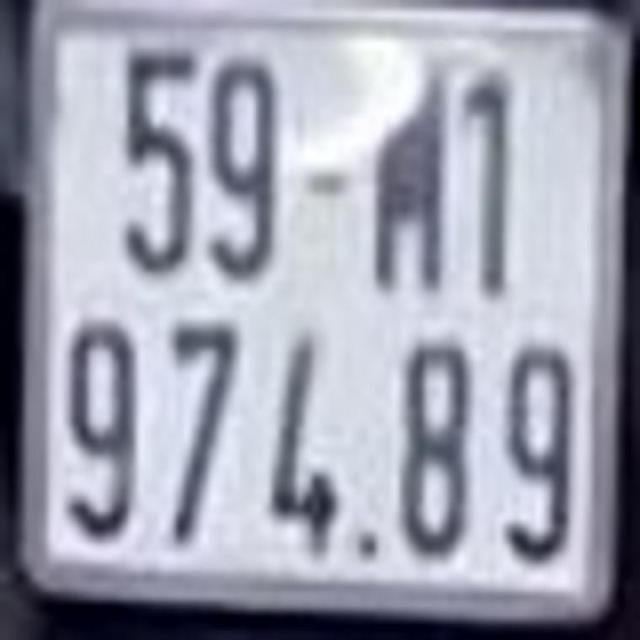1: (464, 73, 509, 296)
4: (270, 337, 338, 546)
5: (126, 41, 190, 265)
7: (169, 320, 234, 543)
8: (405, 344, 469, 556)
9: (504, 344, 572, 564), (74, 324, 138, 532), (216, 51, 268, 272)
M: (368, 44, 442, 290)
